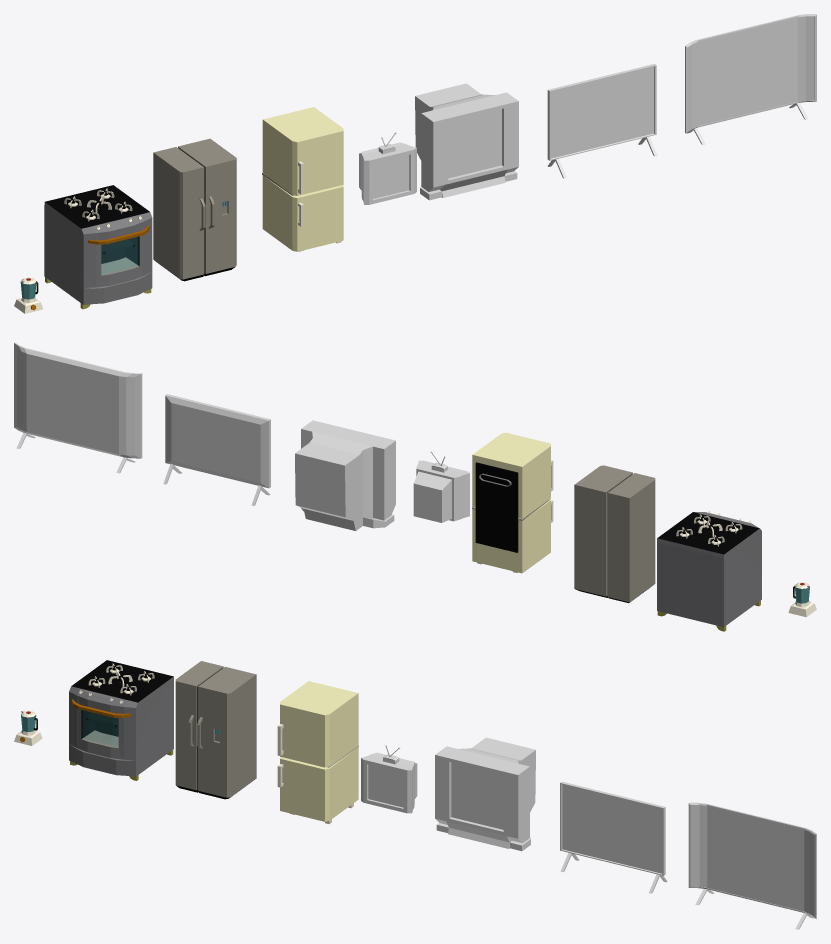
Rendered from Eletrodomesticos.fbx.
The picture shows the model from 3 angles, top to bottom: view 1: azimuth 30°, elevation 25°; view 2: azimuth 150°, elevation 25°; view 3: azimuth 330°, elevation 25°; orthographic projection. The views are drawn at different scales.
Parts seen in each view (by area): view 1: TV_Chique, Fogao_Medio, Geladeira_Cara, Geladeira_Barata, TV_Media, TV_Cara, TV_Barata, FogaoVidro, Liquidificador; view 2: TV_Chique, Fogao_Medio, Geladeira_Barata, Geladeira_Cara, TV_Media, TV_Cara, TV_Barata, Liquidificador; view 3: TV_Chique, Fogao_Medio, Geladeira_Barata, Geladeira_Cara, TV_Media, TV_Cara, TV_Barata, FogaoVidro, Liquidificador.
Part boxes in pixels (x1,y1,x2,y2): TV_Chique: (685, 14, 816, 144); Fogao_Medio: (44, 185, 152, 309); Geladeira_Cara: (153, 138, 236, 281); Geladeira_Barata: (262, 107, 343, 251); TV_Media: (415, 83, 518, 200); TV_Cara: (547, 64, 657, 178); TV_Barata: (359, 132, 416, 204); FogaoVidro: (101, 237, 138, 274); Liquidificador: (14, 277, 42, 313); TV_Chique: (14, 342, 142, 473); Fogao_Medio: (657, 511, 761, 631); Geladeira_Barata: (472, 432, 553, 573); Geladeira_Cara: (574, 465, 655, 603); TV_Media: (295, 420, 395, 530); TV_Cara: (163, 394, 270, 505); TV_Barata: (413, 451, 469, 522); Liquidificador: (788, 582, 816, 617); TV_Chique: (688, 802, 816, 929); Fogao_Medio: (69, 660, 173, 780); Geladeira_Barata: (277, 681, 358, 824); Geladeira_Cara: (175, 661, 256, 799); TV_Media: (435, 737, 535, 851); TV_Cara: (560, 781, 667, 893); TV_Barata: (361, 745, 417, 813); FogaoVidro: (82, 710, 118, 746); Liquidificador: (14, 710, 42, 745).
Bounding box in the file's own units: 917 × 126 × 109.
